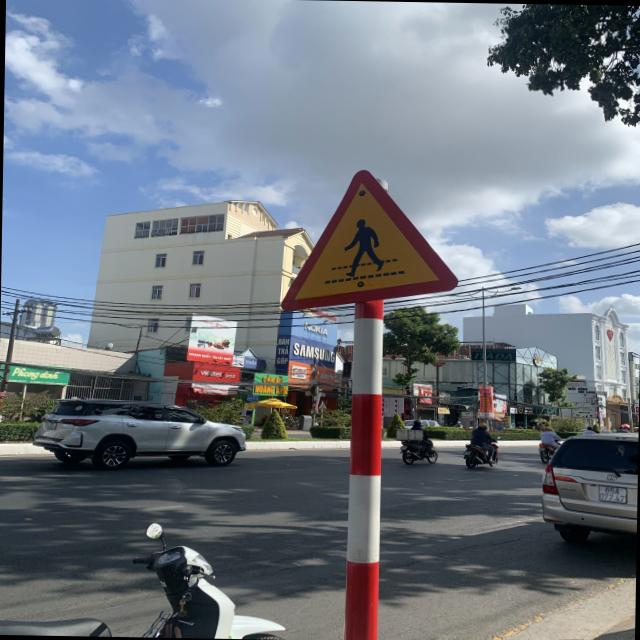Duong_Nguoi_Di_Bo_Sang_Ngang: (277, 168, 462, 311)
